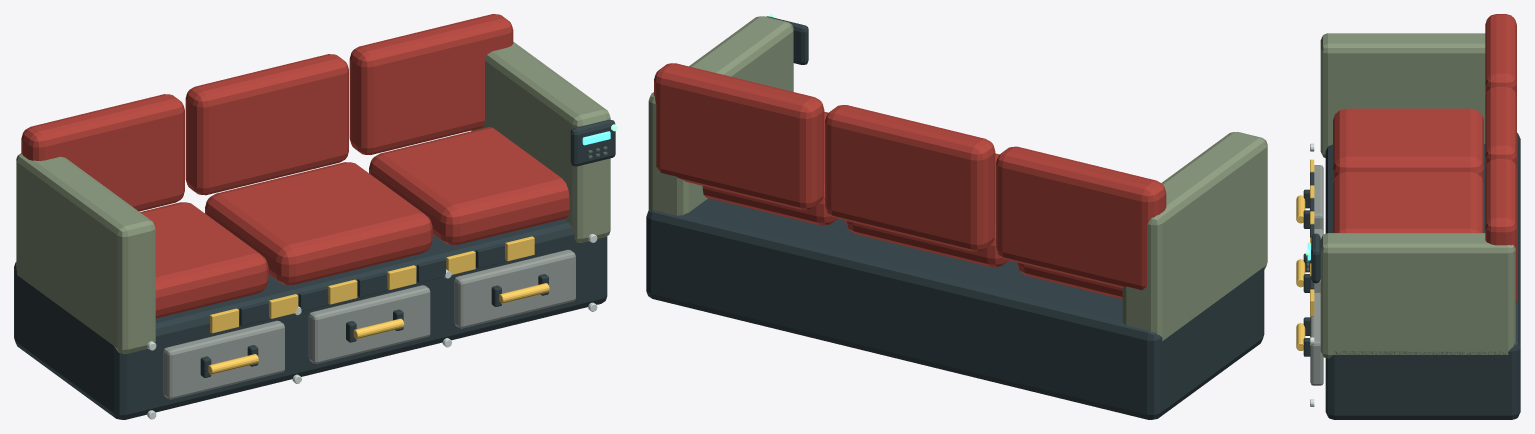
File: Banquette modulaire.glb
3 views of the same model, side by side, from view 1: azimuth 30°, elevation 25°; view 2: azimuth 150°, elevation 25°; view 3: azimuth 270°, elevation 25° (orthographic). The views are drawn at different scales.
Parts seen in each view (by area): view 1: LOUNGE_Metal_Base_Box, LOUNGE_Left_Armrest, LOUNGE_Back_Cushion_1, LOUNGE_Seat_Cushion_1, LOUNGE_Back_Cushion_2, LOUNGE_Seat_Cushion_2, LOUNGE_Right_Armrest, LOUNGE_Back_Cushion_0, LOUNGE_Seat_Cushion_0, LOUNGE_Front_Storage_Drawer_1, LOUNGE_Front_Storage_Drawer_2, LOUNGE_Front_Storage_Drawer_0 (+12 smaller); view 2: LOUNGE_Metal_Base_Box, LOUNGE_Back_Cushion_1, LOUNGE_Back_Cushion_2, LOUNGE_Left_Armrest, LOUNGE_Back_Cushion_0, LOUNGE_Right_Armrest, LOUNGE_Seat_Cushion_1, LOUNGE_Seat_Cushion_2, LOUNGE_Seat_Cushion_0, LOUNGE_Armrest_Utility_Terminal_Block; view 3: LOUNGE_Right_Armrest, LOUNGE_Metal_Base_Box, LOUNGE_Left_Armrest, LOUNGE_Seat_Cushion_0, LOUNGE_Seat_Cushion_1, LOUNGE_Back_Cushion_2, LOUNGE_Back_Cushion_1, LOUNGE_Back_Cushion_0, LOUNGE_Front_Storage_Drawer_2, LOUNGE_Front_Storage_Drawer_0, LOUNGE_Armrest_Utility_Terminal_Block, LOUNGE_Drawer_0_Yellow_Grip_Handle (+2 smaller).
Boxes of the visible parts, x1=… form: LOUNGE_Metal_Base_Box: x1=14, y1=219, x2=607, y2=419; LOUNGE_Left_Armrest: x1=16, y1=153, x2=155, y2=353; LOUNGE_Back_Cushion_1: x1=185, y1=54, x2=348, y2=195; LOUNGE_Seat_Cushion_1: x1=205, y1=162, x2=432, y2=285; LOUNGE_Back_Cushion_2: x1=349, y1=14, x2=513, y2=154; LOUNGE_Seat_Cushion_2: x1=369, y1=127, x2=569, y2=245; LOUNGE_Right_Armrest: x1=471, y1=42, x2=610, y2=242; LOUNGE_Back_Cushion_0: x1=21, y1=94, x2=184, y2=211; LOUNGE_Seat_Cushion_0: x1=140, y1=202, x2=268, y2=318; LOUNGE_Front_Storage_Drawer_1: x1=308, y1=285, x2=430, y2=363; LOUNGE_Front_Storage_Drawer_2: x1=454, y1=249, x2=575, y2=328; LOUNGE_Front_Storage_Drawer_0: x1=163, y1=320, x2=284, y2=399; LOUNGE_Metal_Base_Box: x1=646, y1=198, x2=1264, y2=419; LOUNGE_Back_Cushion_1: x1=825, y1=105, x2=995, y2=251; LOUNGE_Back_Cushion_2: x1=654, y1=63, x2=824, y2=210; LOUNGE_Left_Armrest: x1=1122, y1=132, x2=1267, y2=340; LOUNGE_Back_Cushion_0: x1=996, y1=146, x2=1166, y2=290; LOUNGE_Right_Armrest: x1=648, y1=16, x2=793, y2=215; LOUNGE_Seat_Cushion_1: x1=845, y1=153, x2=1008, y2=267; LOUNGE_Seat_Cushion_2: x1=702, y1=111, x2=837, y2=225; LOUNGE_Seat_Cushion_0: x1=1016, y1=262, x2=1122, y2=299; LOUNGE_Armrest_Utility_Terminal_Block: x1=766, y1=16, x2=808, y2=64; LOUNGE_Right_Armrest: x1=1320, y1=233, x2=1515, y2=358; LOUNGE_Metal_Base_Box: x1=1325, y1=133, x2=1520, y2=419; LOUNGE_Left_Armrest: x1=1320, y1=33, x2=1485, y2=157; LOUNGE_Seat_Cushion_0: x1=1333, y1=108, x2=1483, y2=181; LOUNGE_Seat_Cushion_1: x1=1333, y1=170, x2=1483, y2=232; LOUNGE_Back_Cushion_2: x1=1485, y1=158, x2=1516, y2=303; LOUNGE_Back_Cushion_1: x1=1485, y1=86, x2=1516, y2=168; LOUNGE_Back_Cushion_0: x1=1485, y1=14, x2=1516, y2=96; LOUNGE_Front_Storage_Drawer_2: x1=1310, y1=292, x2=1323, y2=385; LOUNGE_Front_Storage_Drawer_0: x1=1314, y1=165, x2=1323, y2=230; LOUNGE_Armrest_Utility_Terminal_Block: x1=1311, y1=233, x2=1320, y2=283; LOUNGE_Drawer_0_Yellow_Grip_Handle: x1=1296, y1=195, x2=1305, y2=223.
Bounding box in the file's own units: 2.1 × 0.9 × 0.92.
